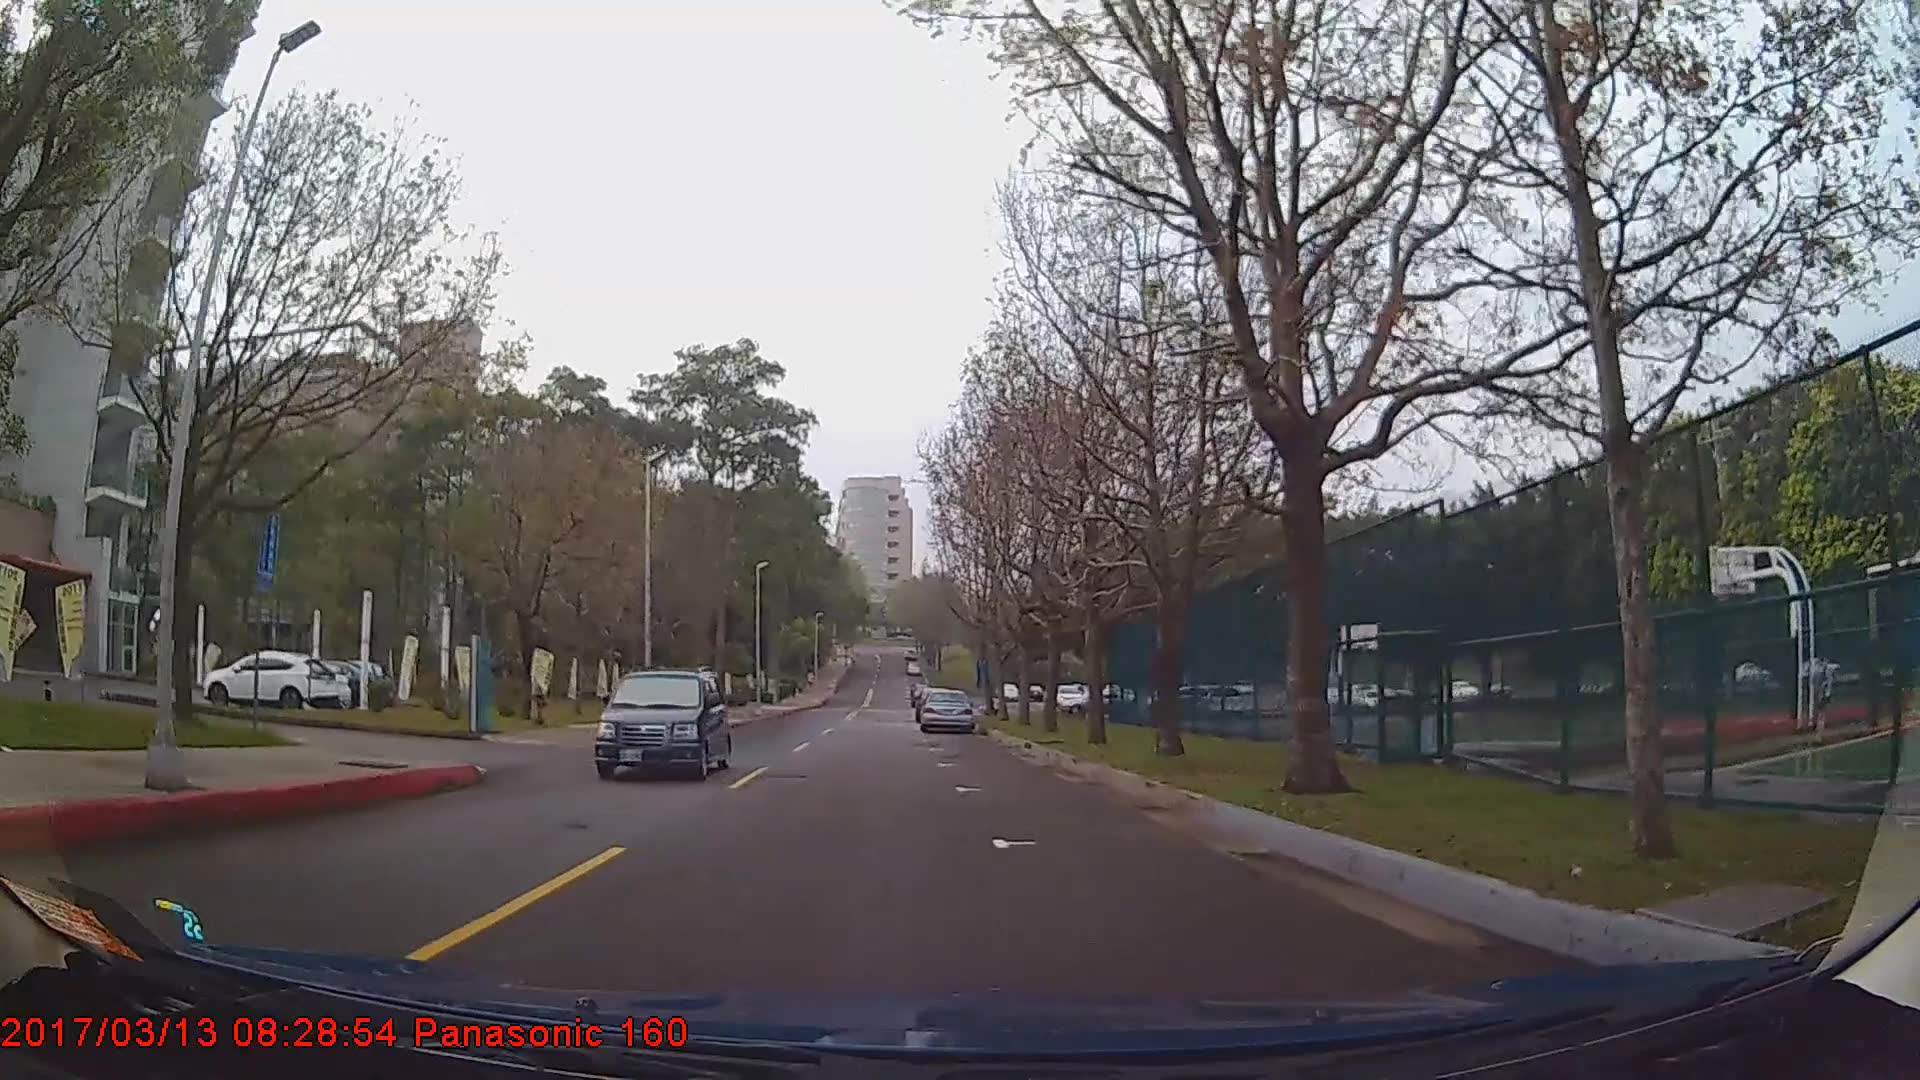vehicle: (591, 666, 729, 782), (203, 647, 338, 711), (918, 687, 975, 735)
